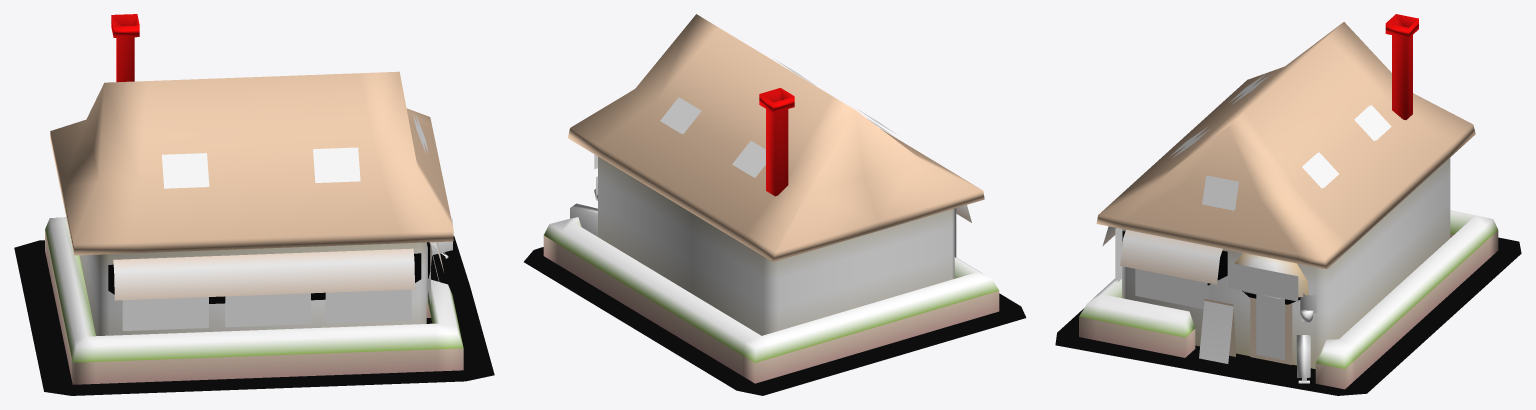
The model's file is Cafe.glb.
The picture shows the model from 3 angles, left to right: view 1: azimuth 30°, elevation 25°; view 2: azimuth 150°, elevation 25°; view 3: azimuth 270°, elevation 25°; orthographic projection. The views are drawn at different scales.
Parts seen in each view (by area): view 1: Object_13; view 2: Object_13; view 3: Object_13.
Part boxes in pixels (box(x1,y1,x2,y2)): Object_13: box(14, 14, 494, 395); Object_13: box(524, 14, 1026, 395); Object_13: box(1055, 14, 1521, 395).
Size of the model in its own units: 0.844 by 0.4543 by 0.7883.
